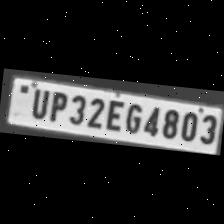0: (177, 108, 199, 142)
2: (84, 94, 106, 130)
3: (65, 90, 87, 126), (196, 110, 218, 146)
4: (140, 101, 162, 137)
8: (158, 106, 180, 140)
E: (103, 97, 125, 132)
G: (121, 100, 144, 134)
P: (45, 88, 68, 122)
U: (26, 86, 49, 120)
